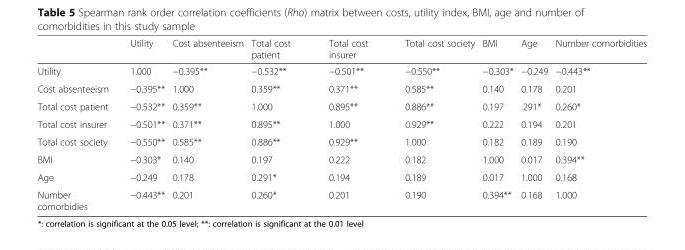table: (36, 37, 646, 211)
table column: (551, 37, 646, 211), (385, 37, 478, 211), (36, 37, 118, 211), (167, 37, 246, 211), (308, 37, 385, 211), (246, 37, 308, 211), (118, 37, 167, 211), (478, 37, 516, 211), (516, 37, 551, 211)
table column header: (36, 37, 646, 62)
table row: (36, 185, 646, 211), (36, 37, 646, 62), (36, 79, 646, 97), (36, 114, 646, 132), (36, 132, 646, 150), (36, 167, 646, 185), (36, 62, 646, 79), (36, 97, 646, 114), (36, 150, 646, 167)
